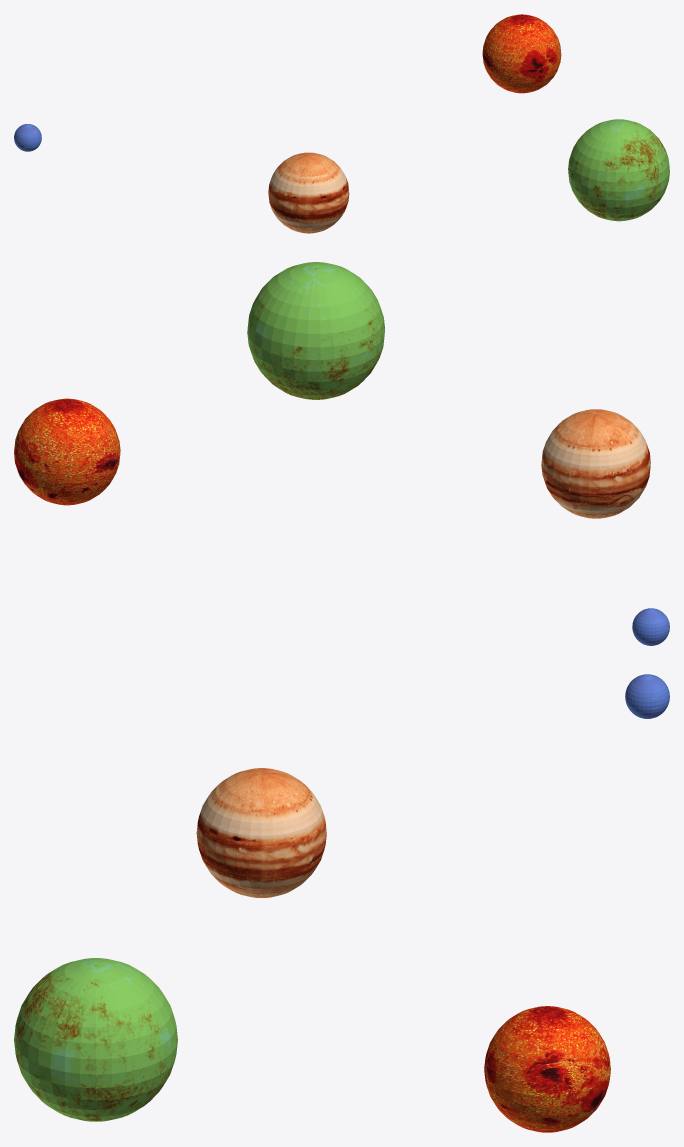
The model's file is planet_system.glb.
3 views of the same model, one above another, from view 1: azimuth 30°, elevation 25°; view 2: azimuth 150°, elevation 25°; view 3: azimuth 270°, elevation 25° (orthographic). The views are drawn at different scales.
Parts seen in each view (by area): view 1: Object_3, Object_4, Object_2, Object_5; view 2: Object_3, Object_4, Object_2, Object_5; view 3: Object_3, Object_4, Object_2, Object_5.
Boxes of the visible parts, x1=… form: Object_3: x1=568, y1=119, x2=669, y2=221; Object_4: x1=268, y1=152, x2=349, y2=233; Object_2: x1=482, y1=14, x2=561, y2=93; Object_5: x1=14, y1=124, x2=41, y2=151; Object_3: x1=247, y1=262, x2=384, y2=399; Object_4: x1=541, y1=409, x2=650, y2=518; Object_2: x1=14, y1=398, x2=120, y2=505; Object_5: x1=632, y1=608, x2=669, y2=645; Object_3: x1=14, y1=958, x2=177, y2=1121; Object_4: x1=196, y1=768, x2=326, y2=898; Object_2: x1=484, y1=1006, x2=610, y2=1132; Object_5: x1=625, y1=674, x2=669, y2=718.
Bounding box in the file's own units: 5.37 × 0.9342 × 3.73.
Materials: 4 (4 with a texture image).
